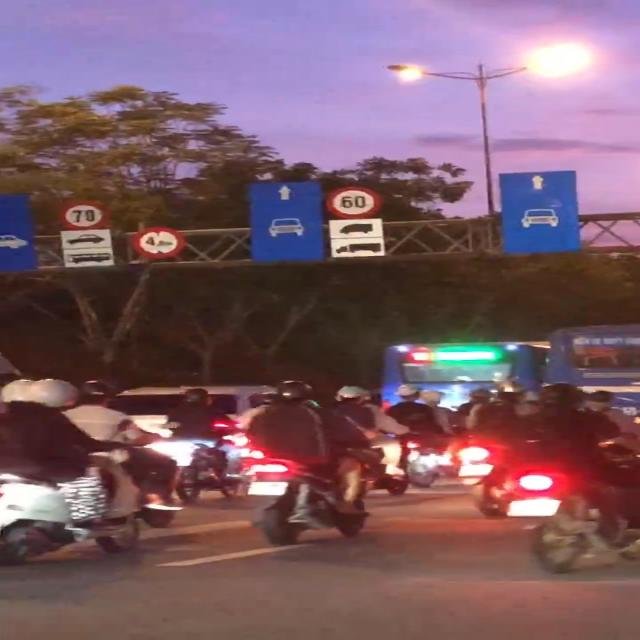Bien bao han che chieu cao: (132, 227, 189, 262)
Bien bao toc do toi da cho phep: (54, 200, 116, 235), (324, 184, 383, 220)
